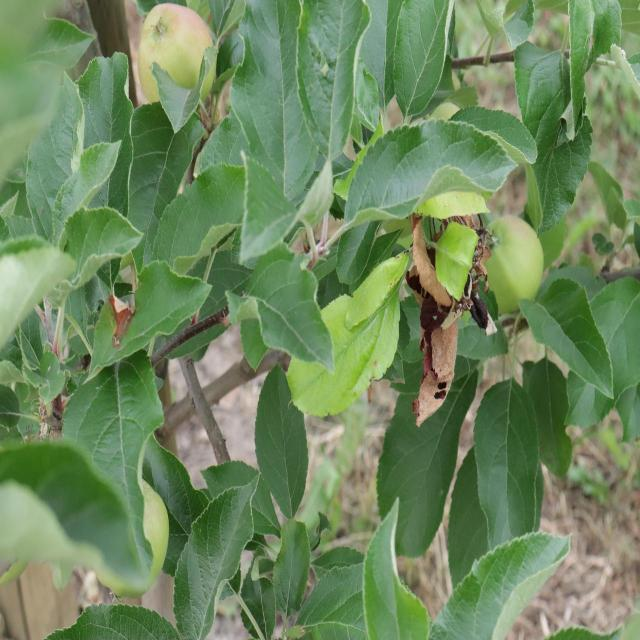-FireBlight-: (404, 205, 470, 428)
